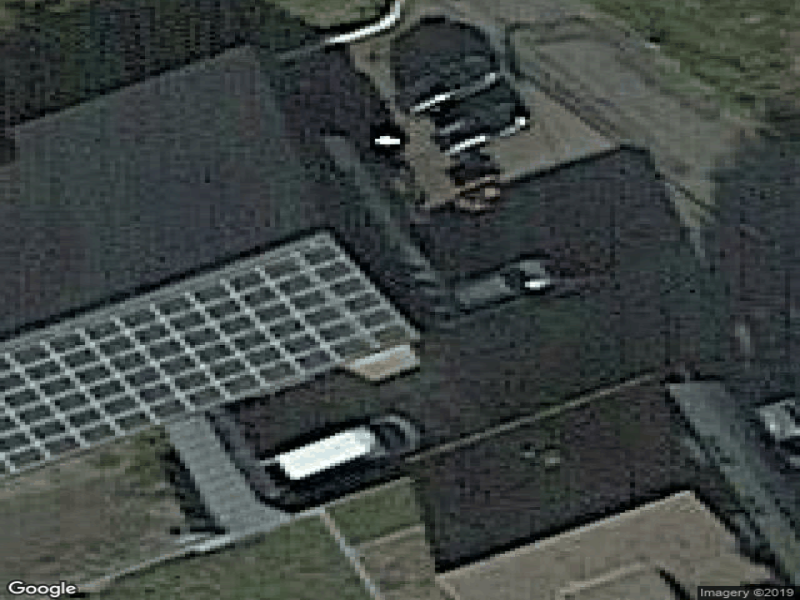pv: (3, 243, 414, 477)
